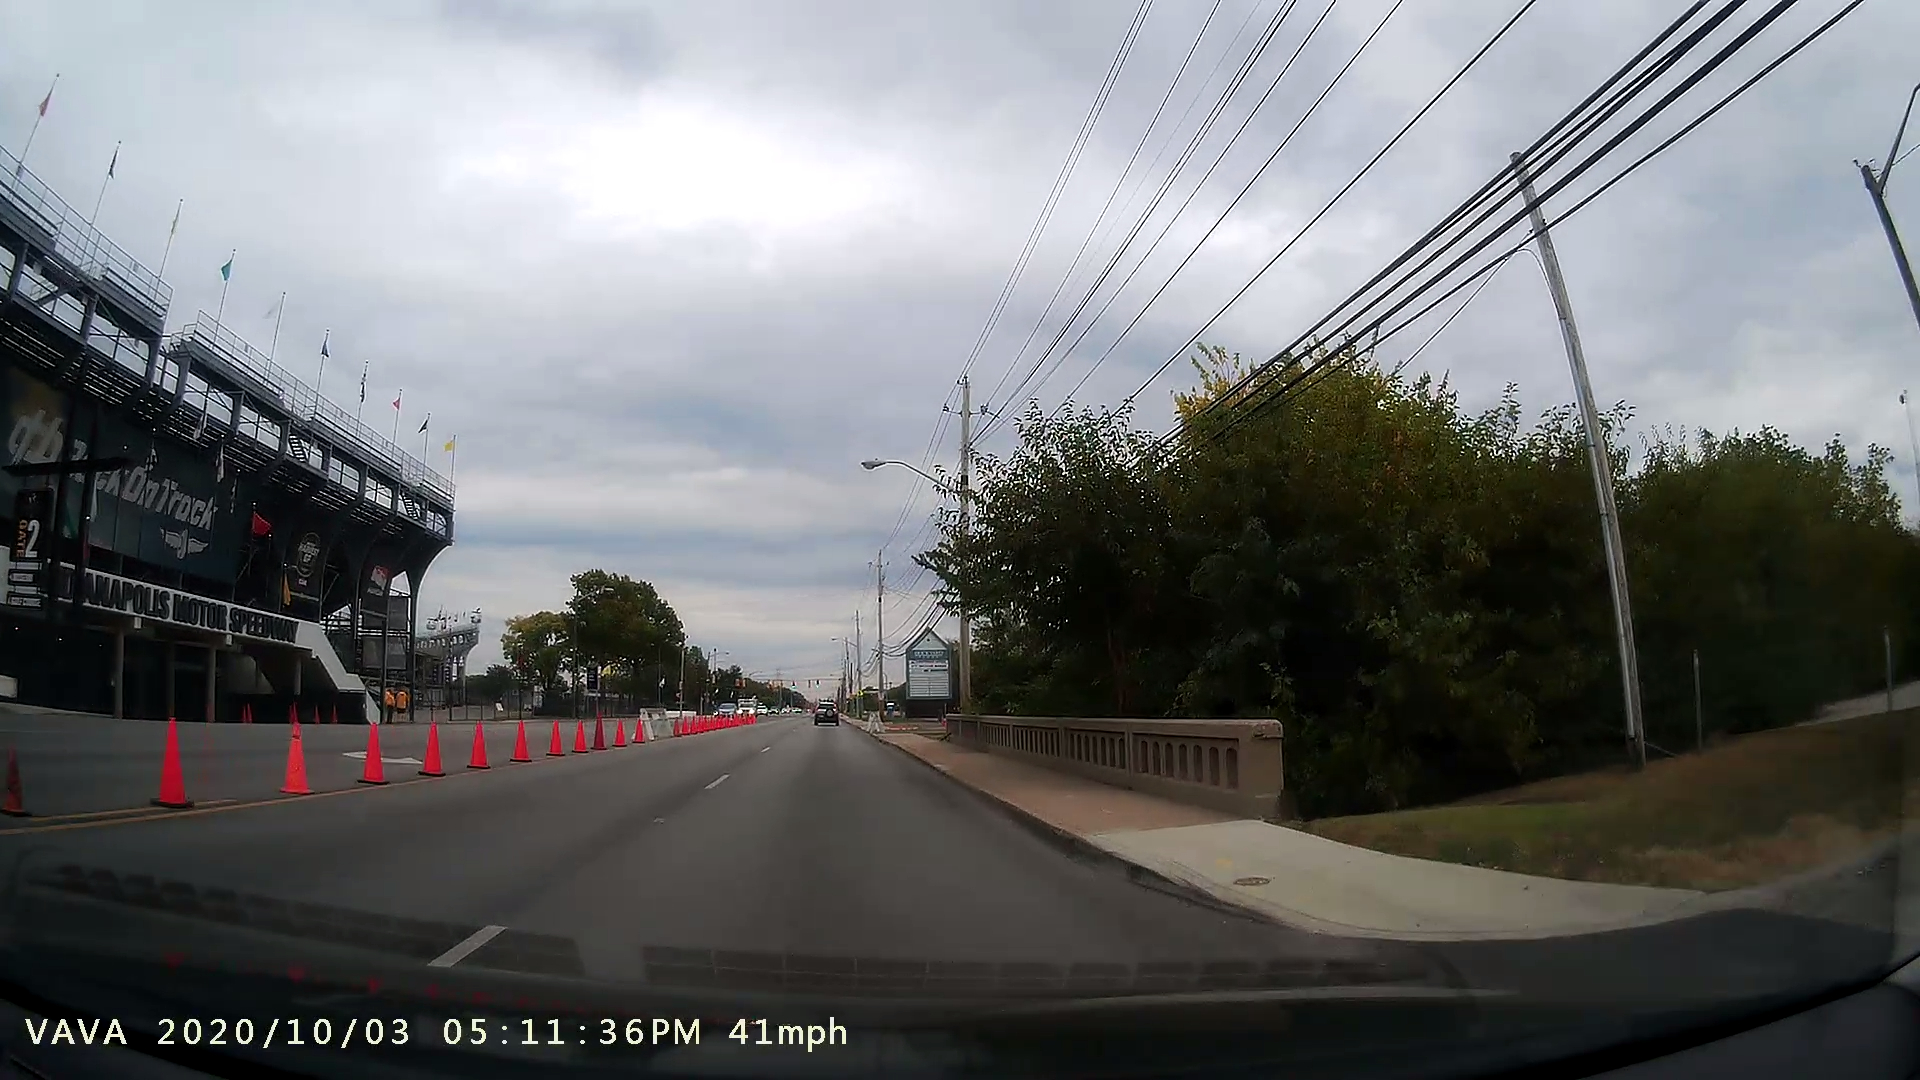const_cone: (137, 699, 214, 818), (272, 696, 327, 802), (344, 705, 400, 793), (415, 713, 454, 787), (462, 708, 497, 775), (535, 700, 568, 764), (506, 705, 535, 770)
